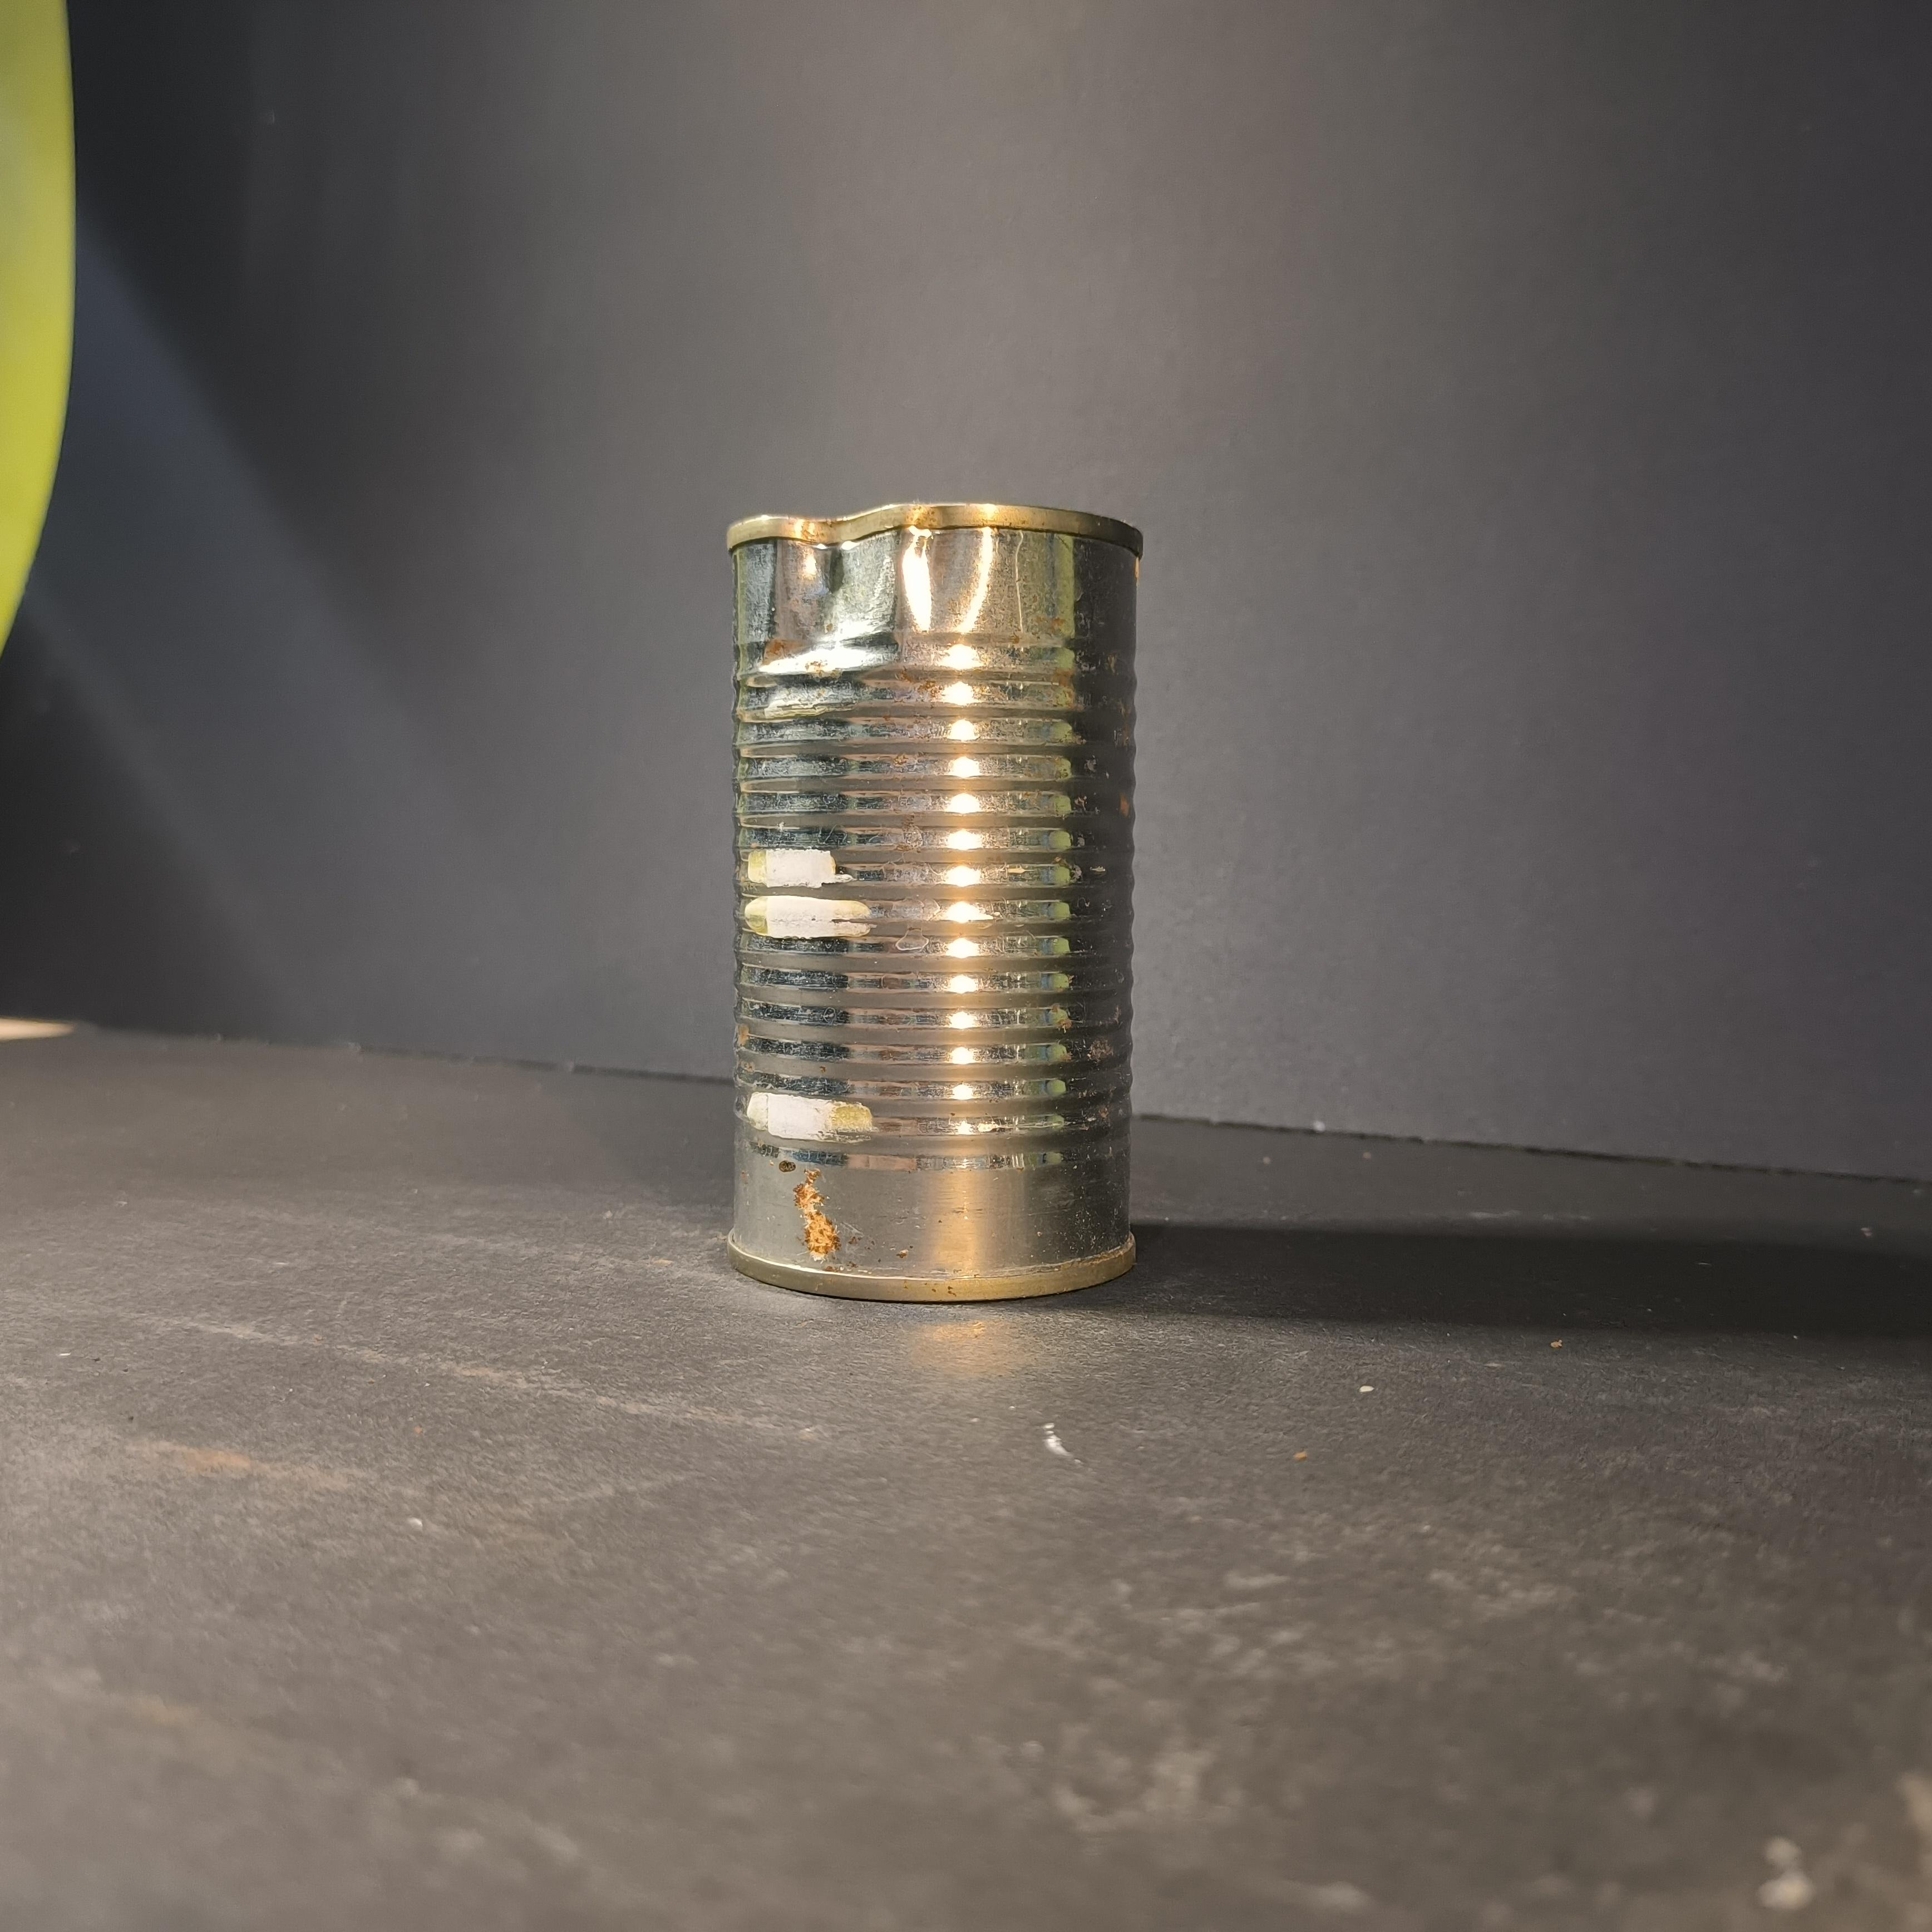Critical Defect: (725, 501, 1145, 1304)
